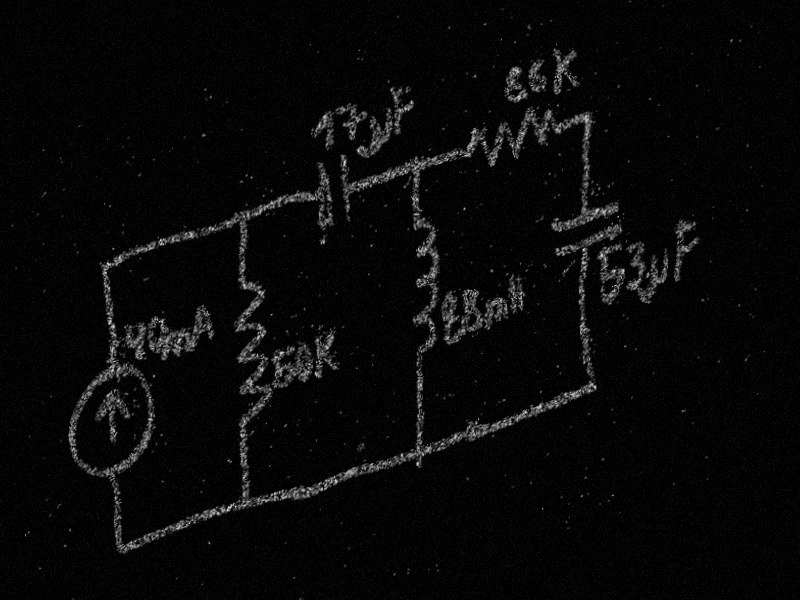0: (147, 311, 168, 359), (294, 340, 315, 385)
1: (307, 105, 337, 162)
3: (623, 237, 648, 295)
4: (123, 316, 148, 368)
5: (595, 240, 628, 310), (271, 342, 297, 393)
6: (526, 54, 549, 98)
7: (334, 96, 369, 149)
8: (439, 285, 468, 351), (460, 283, 484, 339), (502, 62, 528, 110)
A: (189, 298, 216, 352)
F: (669, 212, 703, 282), (390, 80, 418, 139)
H: (507, 271, 527, 318)
k: (551, 38, 581, 98), (312, 328, 339, 382)
m: (162, 325, 192, 363), (482, 293, 511, 329)
u: (367, 107, 394, 160), (646, 247, 672, 296)
